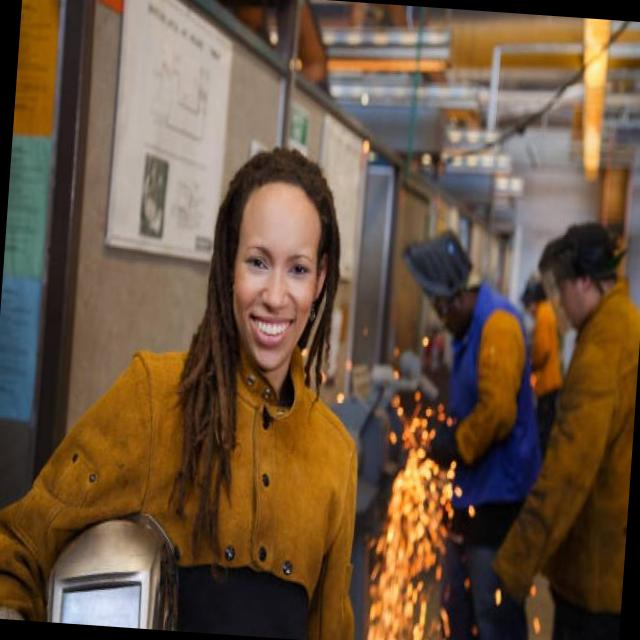Gloves: (420, 412, 462, 472)
